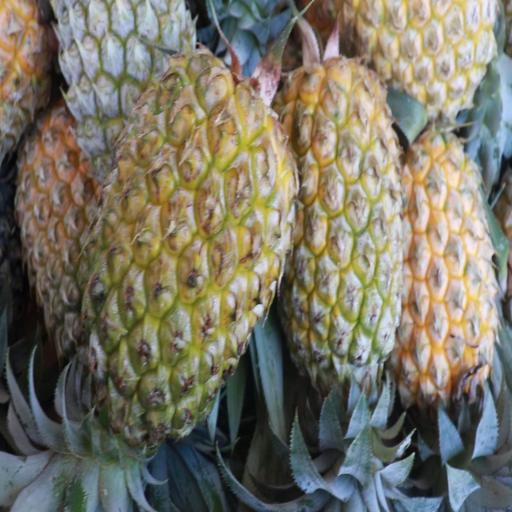Pineapple - v8 v1: (84, 77, 290, 438), (278, 68, 403, 380), (393, 127, 500, 396), (338, 0, 502, 124)
